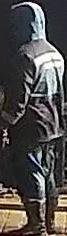vest: (8, 44, 65, 146)
